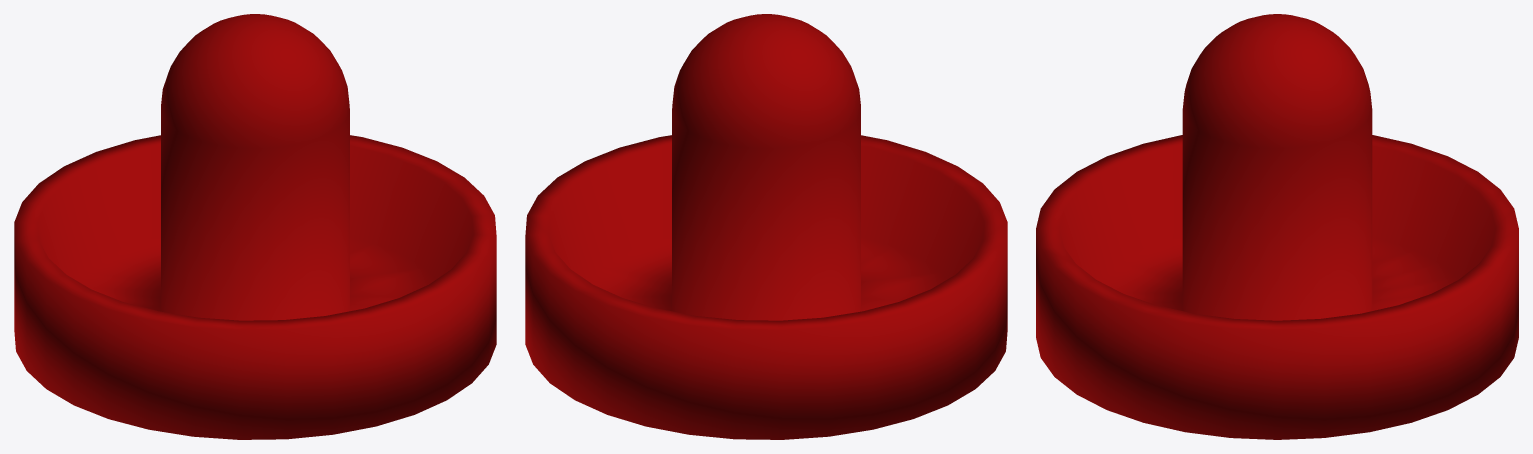
Rendered from paddle.gltf.
3 renders of one model, left to right at view 1: azimuth 30°, elevation 25°; view 2: azimuth 150°, elevation 25°; view 3: azimuth 270°, elevation 25°, orthographic.
Parts seen in each view (by area): view 1: Mesh_Cylinder; view 2: Mesh_Cylinder; view 3: Mesh_Cylinder.
Boxes of the visible parts, x1,y1,x2,y2 form: Mesh_Cylinder: [14, 14, 496, 439]; Mesh_Cylinder: [525, 14, 1007, 439]; Mesh_Cylinder: [1036, 14, 1518, 439].
Size of the model in its own units: 2 by 1.44 by 2.
